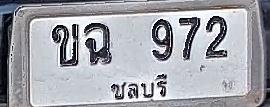2: (205, 15, 227, 58)
7: (178, 16, 200, 60)
9: (152, 18, 172, 61)
A02: (51, 24, 79, 66)
A09: (84, 22, 112, 65)
CBI: (103, 74, 171, 101)
